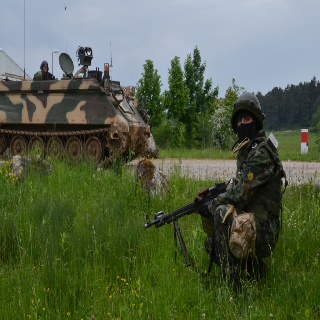rifle: (142, 181, 232, 268)
